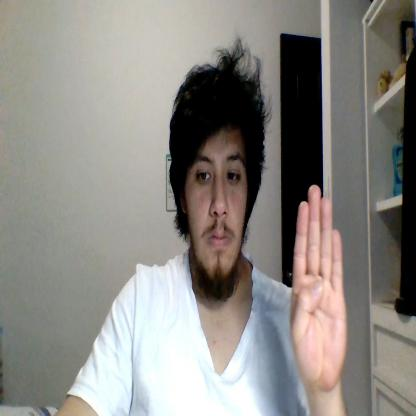B: (290, 186, 347, 390)
